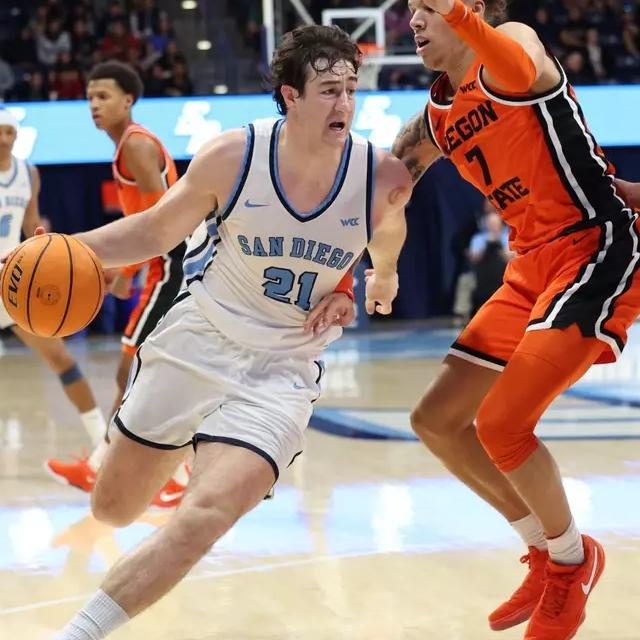basketball: (0, 230, 103, 336)
